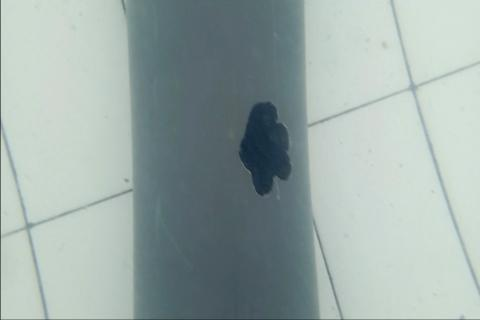kebocoran: (236, 97, 293, 198)
